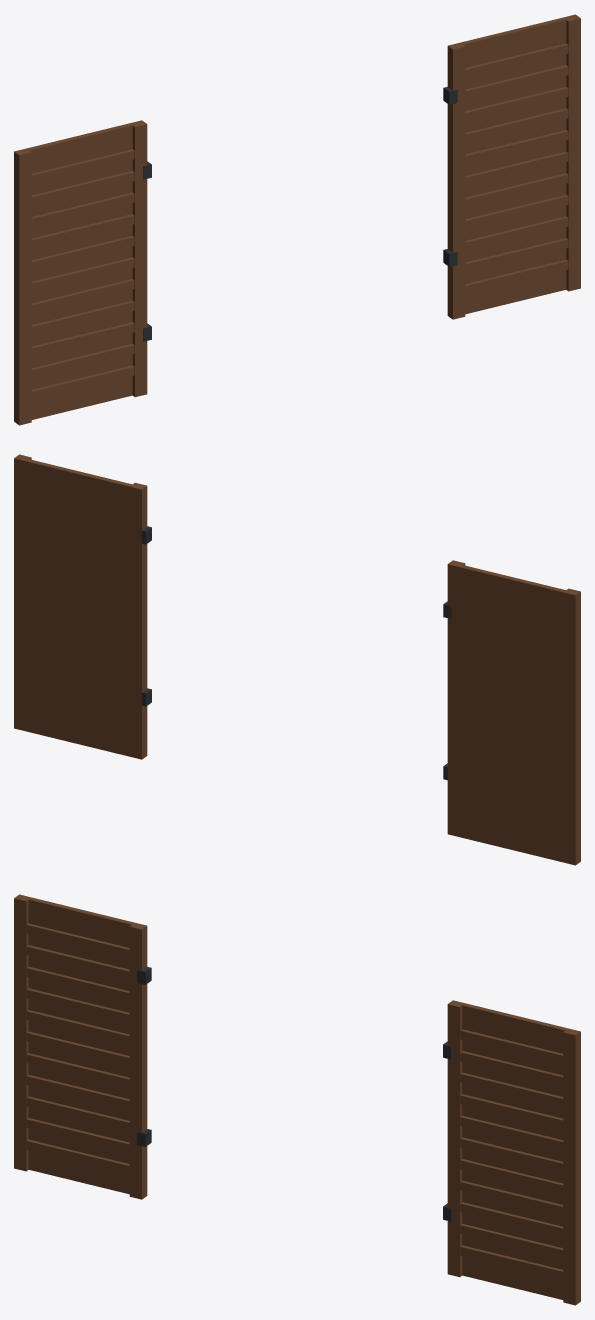
File: SM_Bld_Shutters_Brown_01.glb
The picture shows the model from 3 angles, top to bottom: view 1: azimuth 30°, elevation 25°; view 2: azimuth 150°, elevation 25°; view 3: azimuth 330°, elevation 25°; orthographic projection.
Visible parts, largest first — view 1: SM_Bld_Shutters_Brown_01; view 2: SM_Bld_Shutters_Brown_01; view 3: SM_Bld_Shutters_Brown_01.
Part boxes in pixels (x1,y1,x2,y2): SM_Bld_Shutters_Brown_01: (14,14,580,425); SM_Bld_Shutters_Brown_01: (14,454,580,865); SM_Bld_Shutters_Brown_01: (14,894,580,1305).
Bounding box in the file's own units: 2.72 × 1.25 × 0.05.
1 material, 1 textured.
